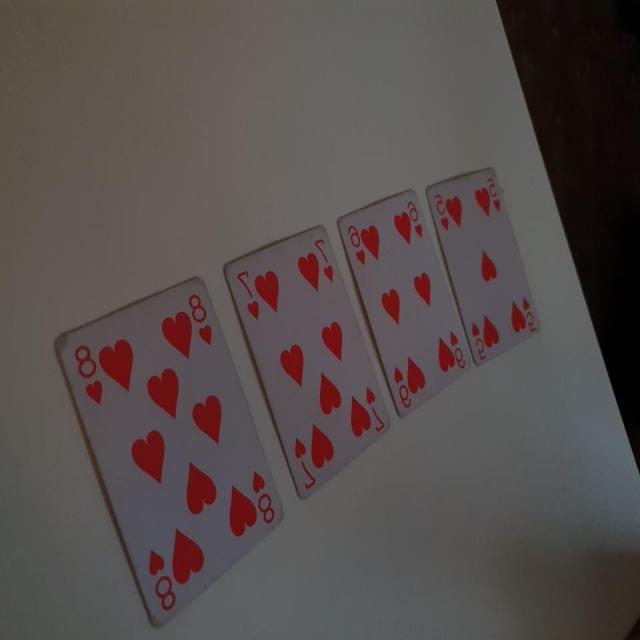5 of hearts: (420, 164, 542, 370)
6 of hearts: (335, 192, 475, 428)
7 of hearts: (225, 218, 396, 504)
8 of hearts: (52, 270, 278, 633)
